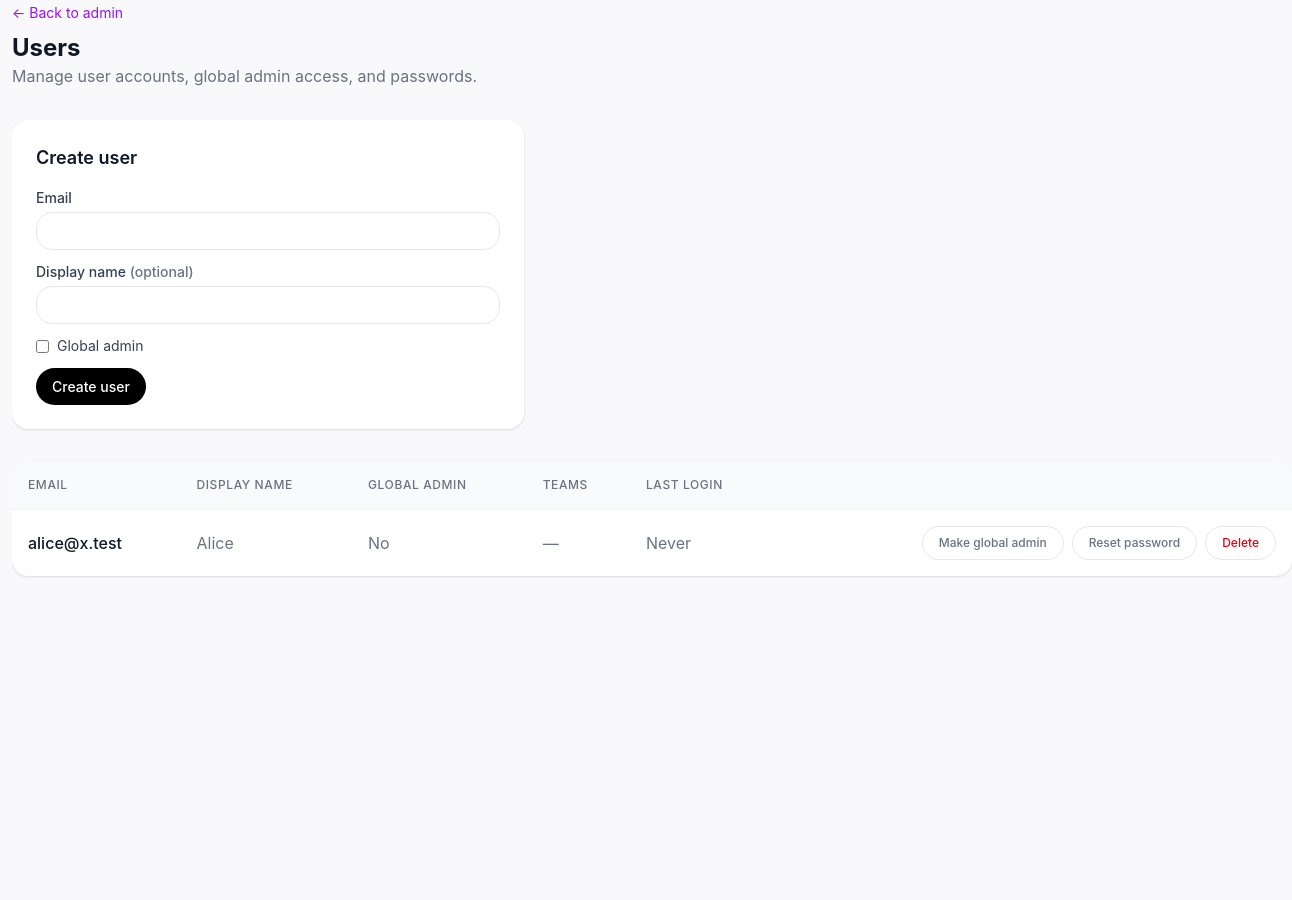
Scenario: admin users page — delete confirm state machine (findings-r1 I-3) › Cancel returns to the Delete button and clears the typed value
Click the button "Delete". click: coordinates (1241, 543)
box: [1205,526,1276,560]
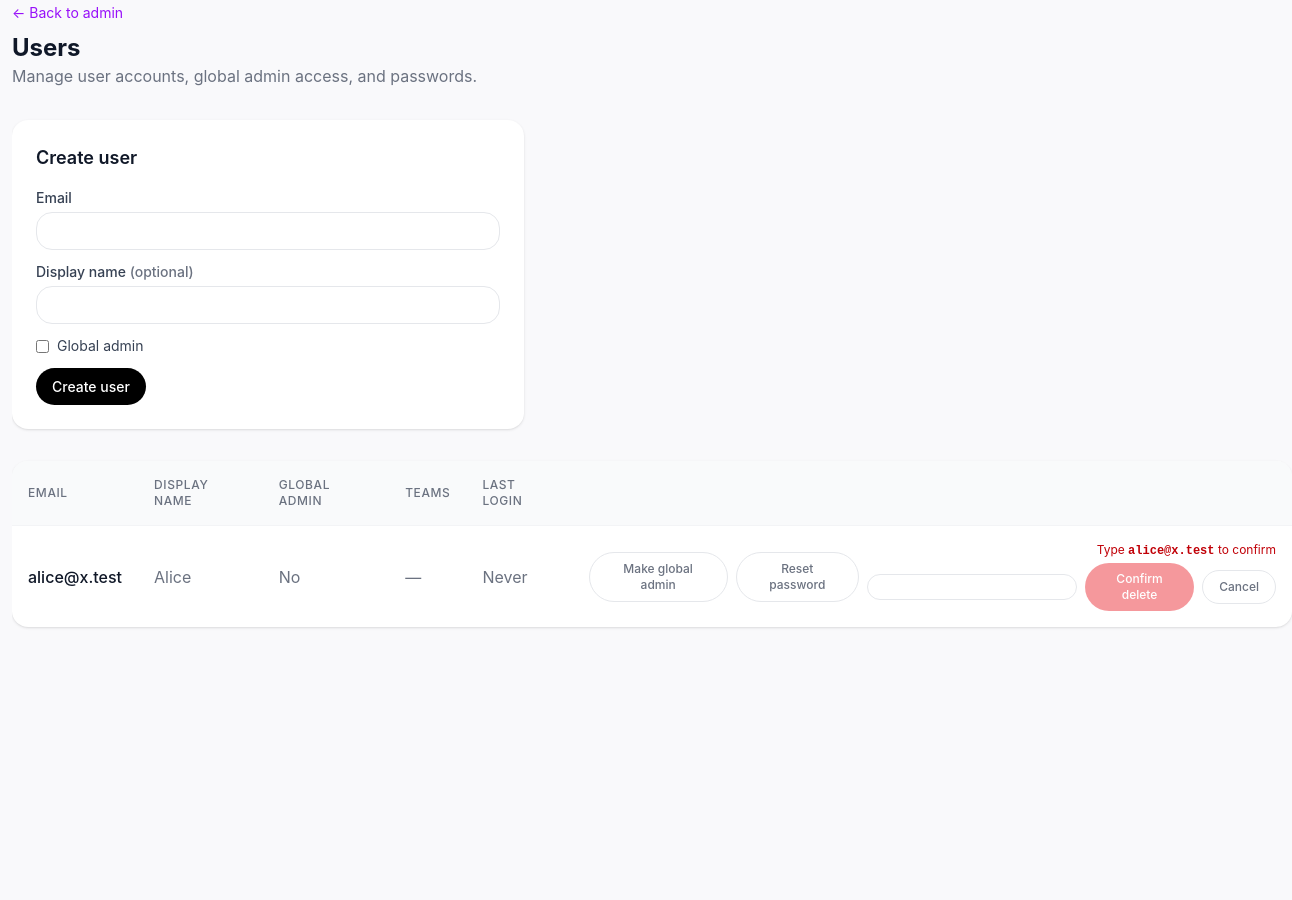
Type "alice@x.test" into the field named "Type the email to confirm". click: coordinates (972, 587)
box: [867,574,1077,600]
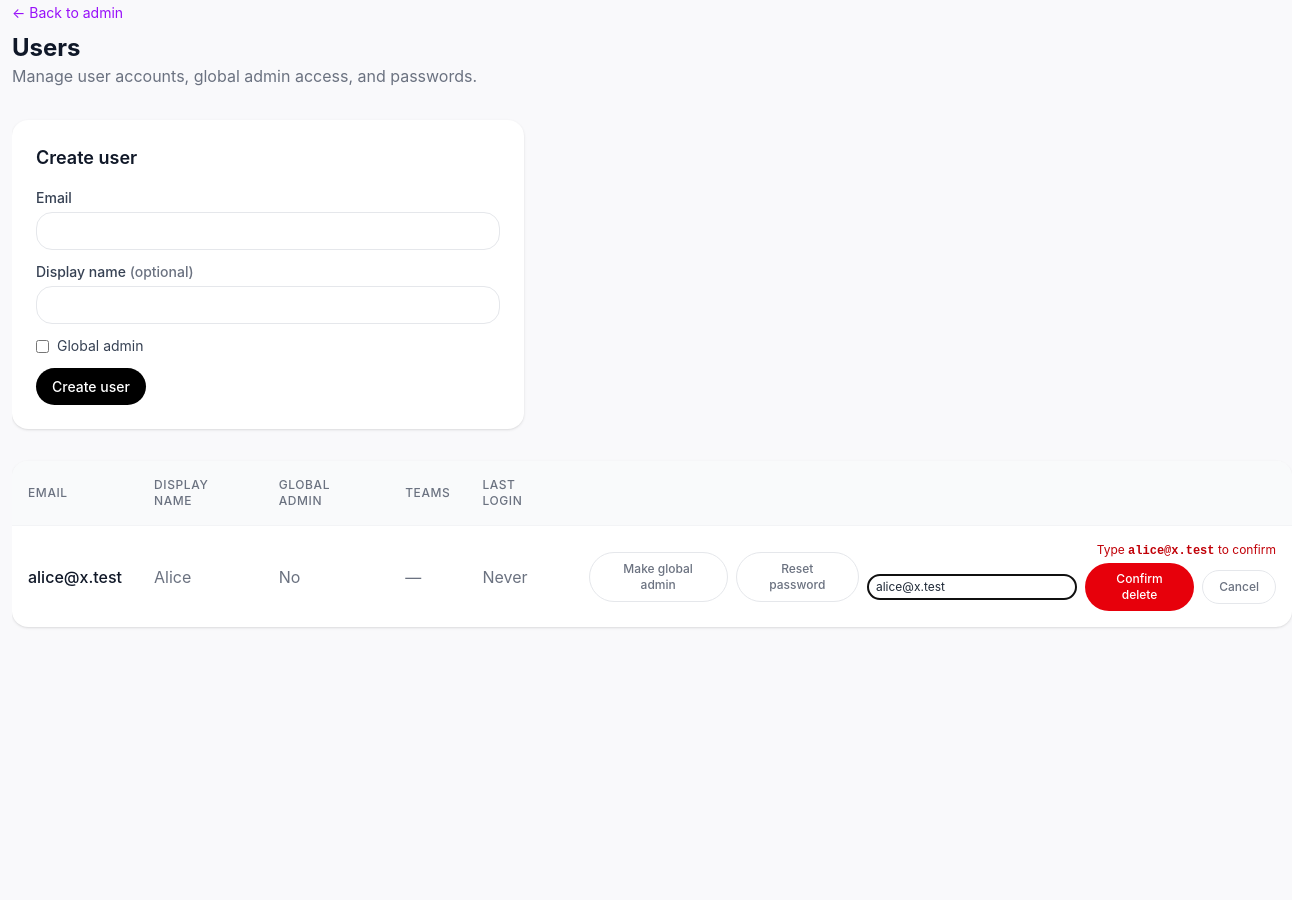
Click the button "Cancel". click: coordinates (1239, 587)
box: [1202,570,1276,604]
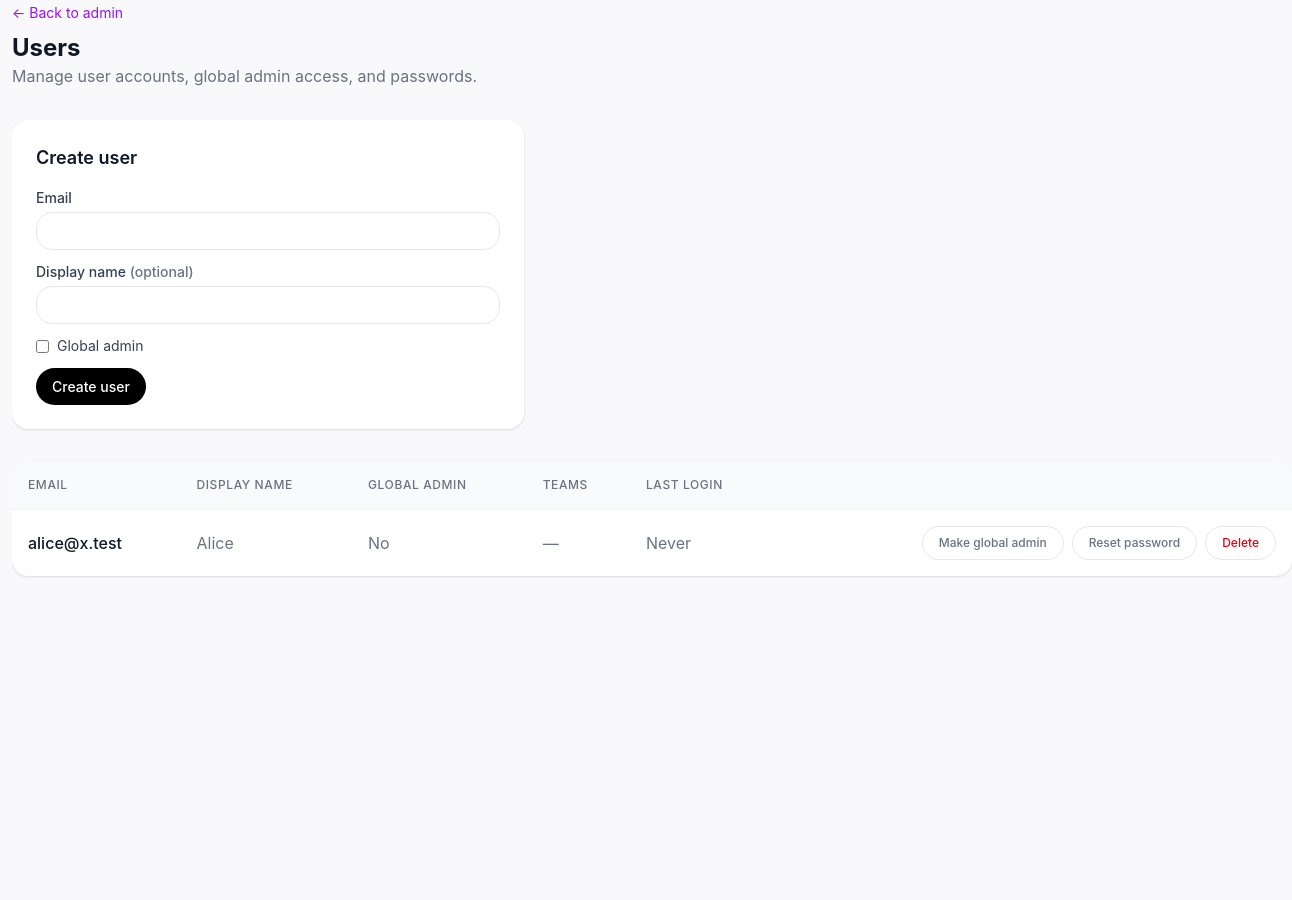
Click the button "Delete". click: coordinates (1241, 543)
box: [1205,526,1276,560]
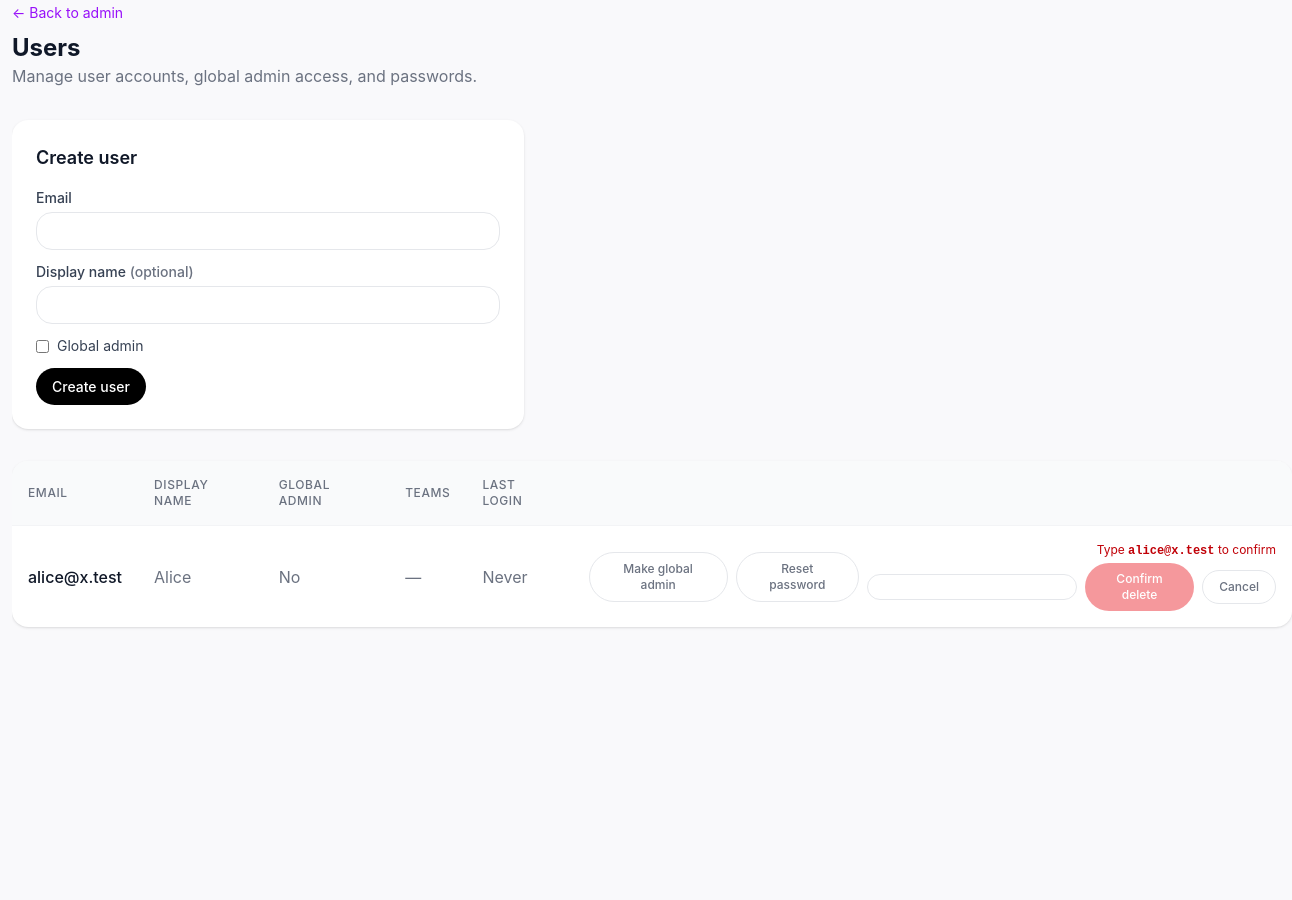
Result: the button "Confirm delete" is disabled at [1085,563,1194,611]
